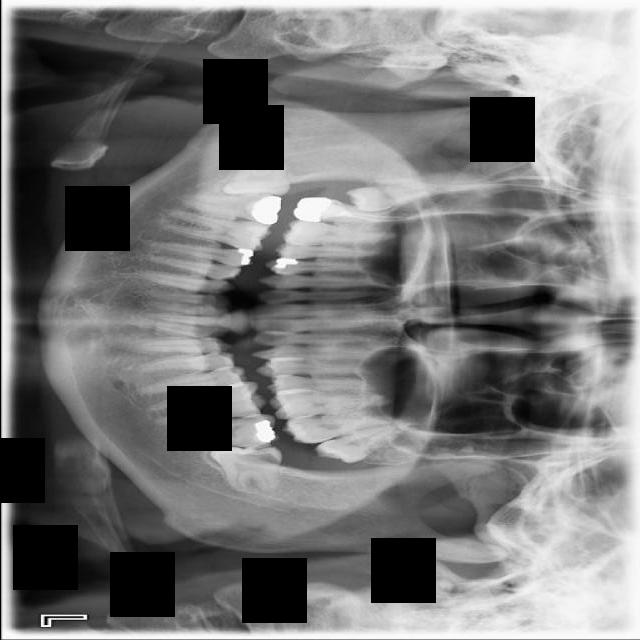3M ESPE Implant: (344, 182, 448, 214)
52: (229, 408, 282, 454), (237, 188, 283, 227), (279, 415, 333, 445), (292, 196, 346, 223), (264, 256, 304, 276), (215, 248, 253, 268), (238, 454, 277, 468)
73: (333, 202, 417, 230), (80, 610, 82, 614)
BioHorizons Implant: (281, 412, 408, 445)
BioLife Implant: (312, 420, 411, 472)
Biomet 3i Implant: (208, 445, 282, 496)
Blue Sky Bio Implant: (163, 410, 279, 450)
Caries: (291, 195, 417, 229)
Implant: (180, 186, 282, 226)
Keystone Dental Implant: (220, 156, 290, 198)
